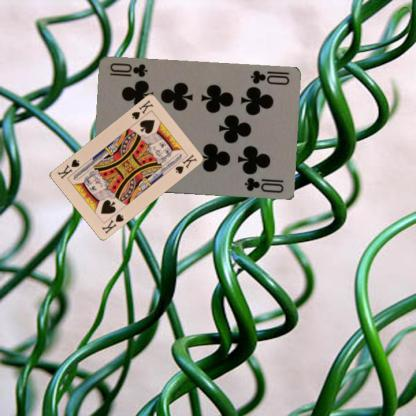10c: (247, 68, 290, 87)
Ks: (129, 97, 155, 121), (99, 211, 125, 234)
